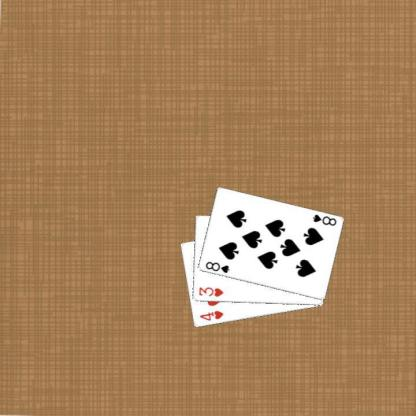3H: (197, 284, 224, 298)
4H: (197, 308, 224, 322)
8S: (203, 259, 230, 274), (310, 212, 337, 227)
